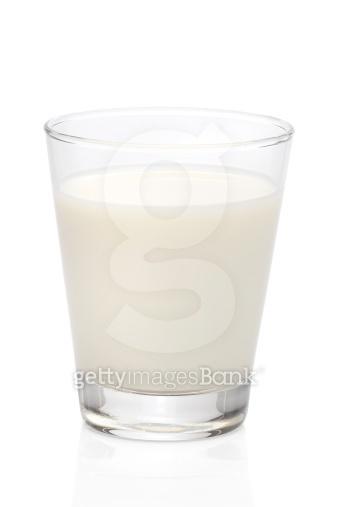glass of milk: (39, 100, 297, 444)
